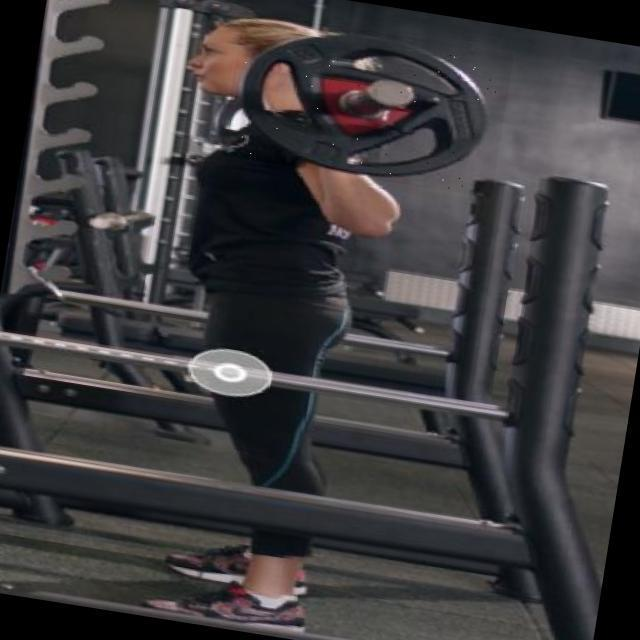barbell: (222, 12, 515, 199)
